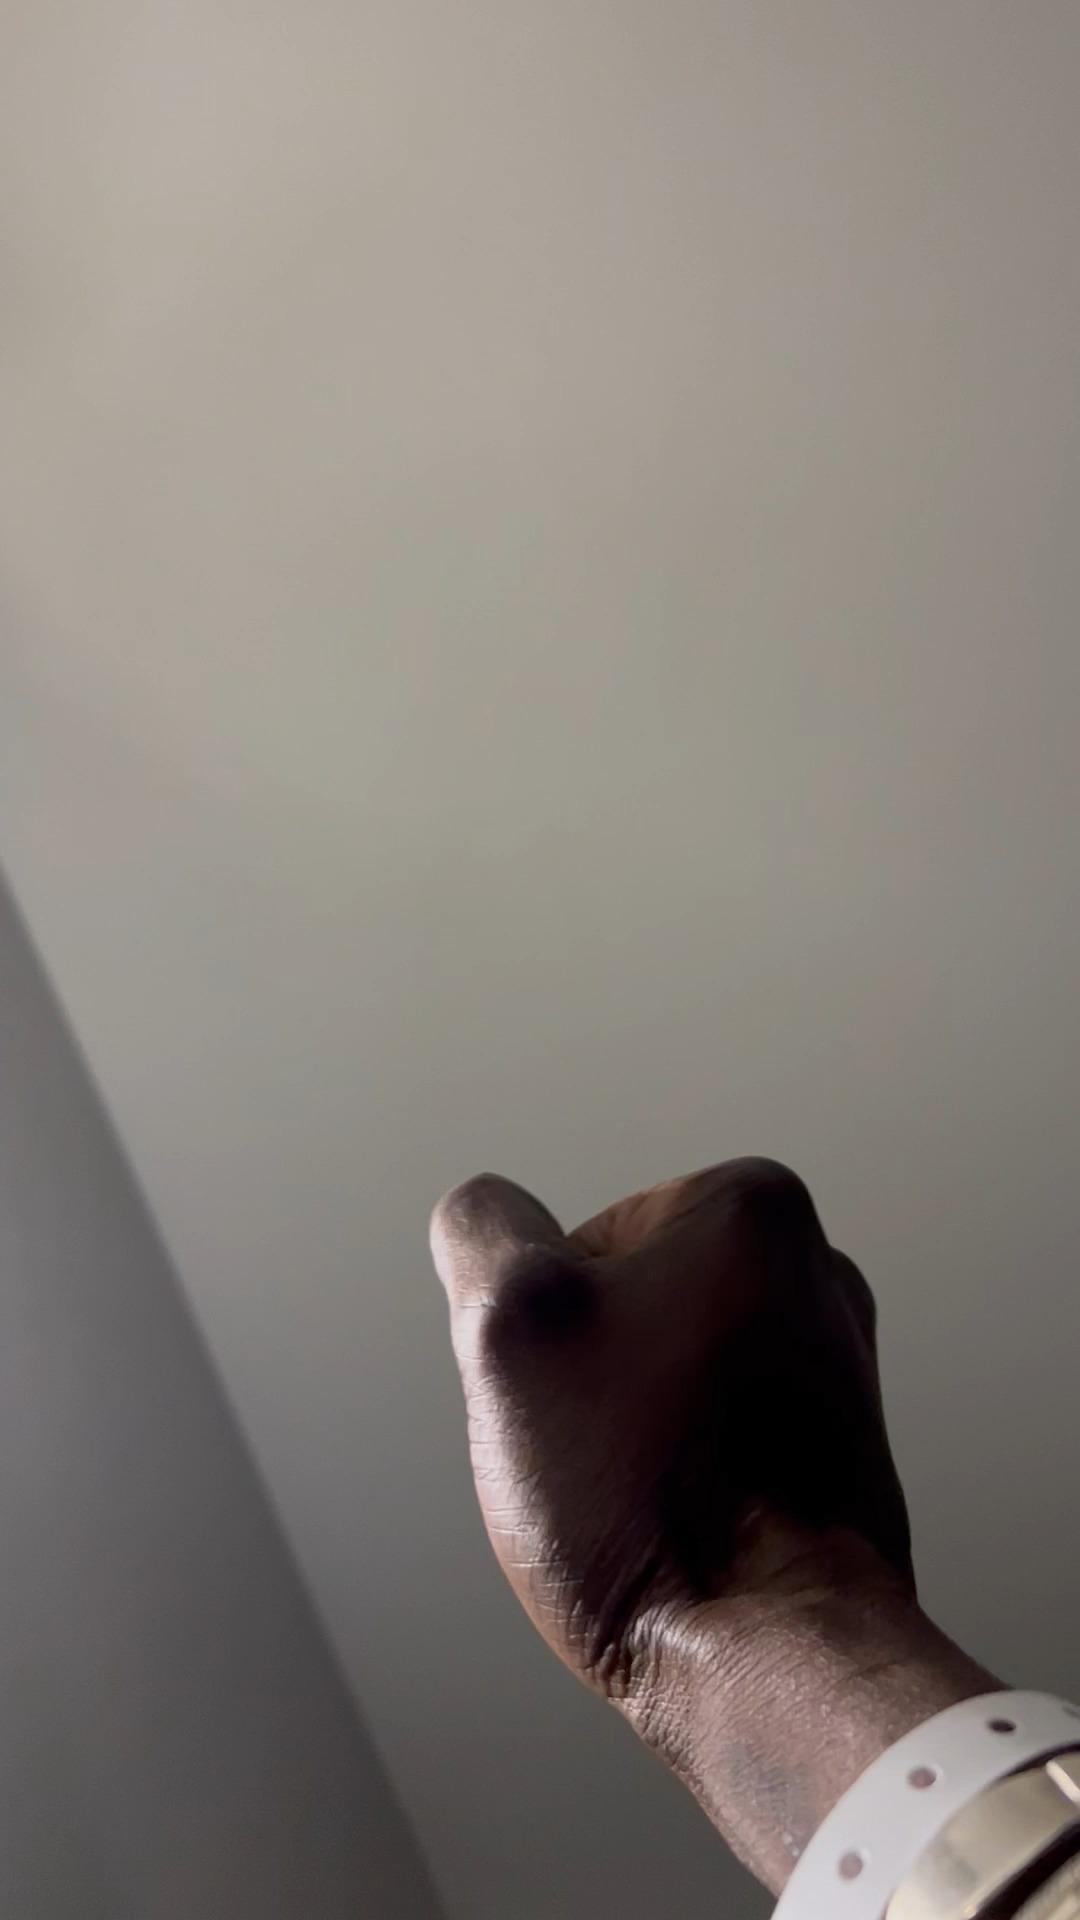Rock: (427, 1150, 915, 1716)
